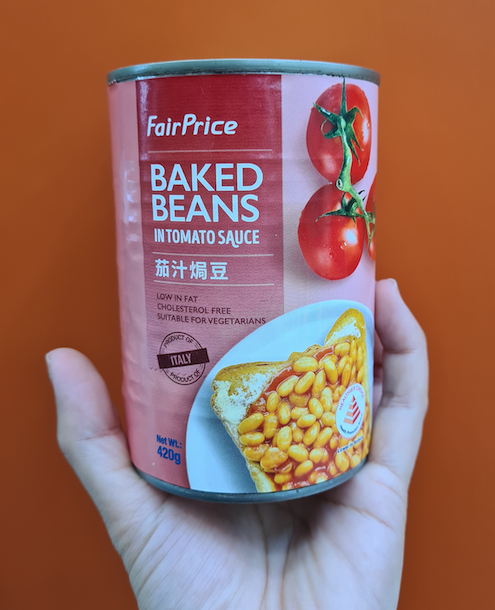Canned_Baked_Beans: (113, 68, 370, 485)
